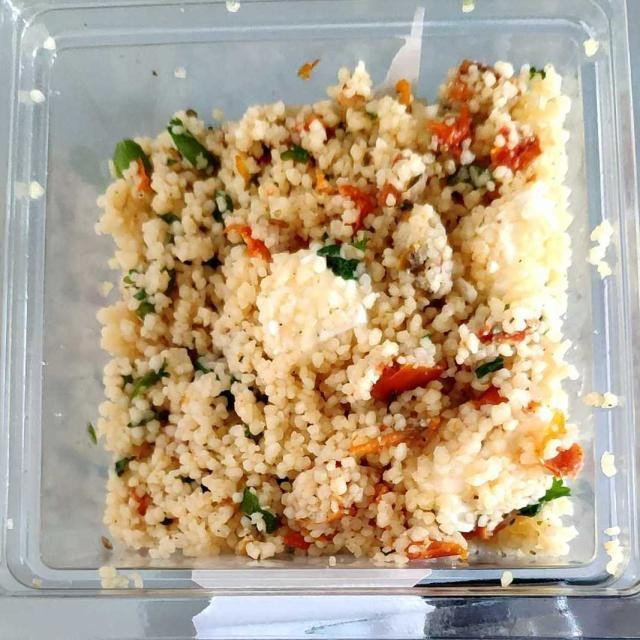taboule-prepared-with-couscous: (102, 66, 579, 561)
